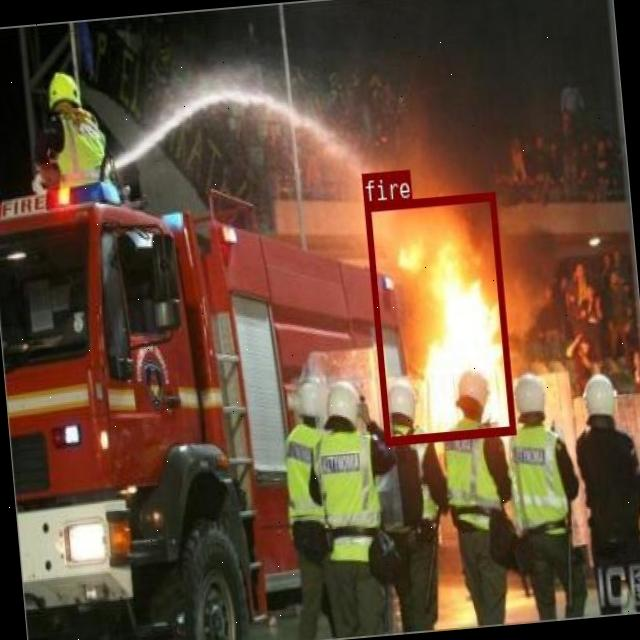fire: (362, 190, 514, 444)
